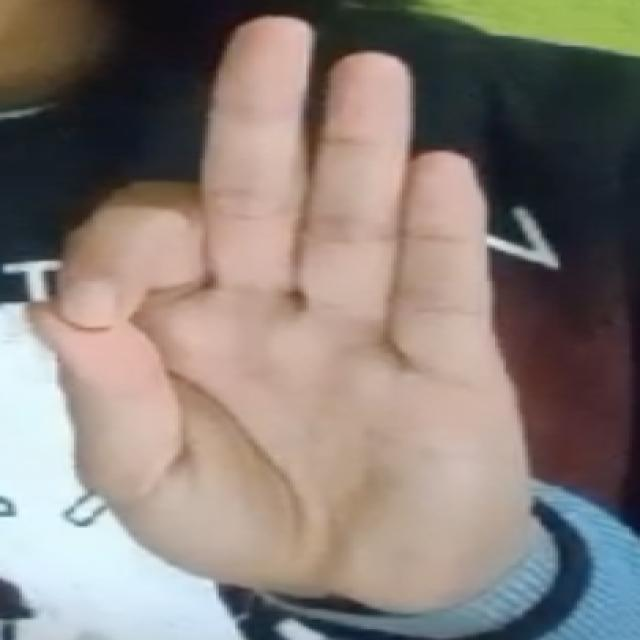F: (11, 8, 544, 607)
